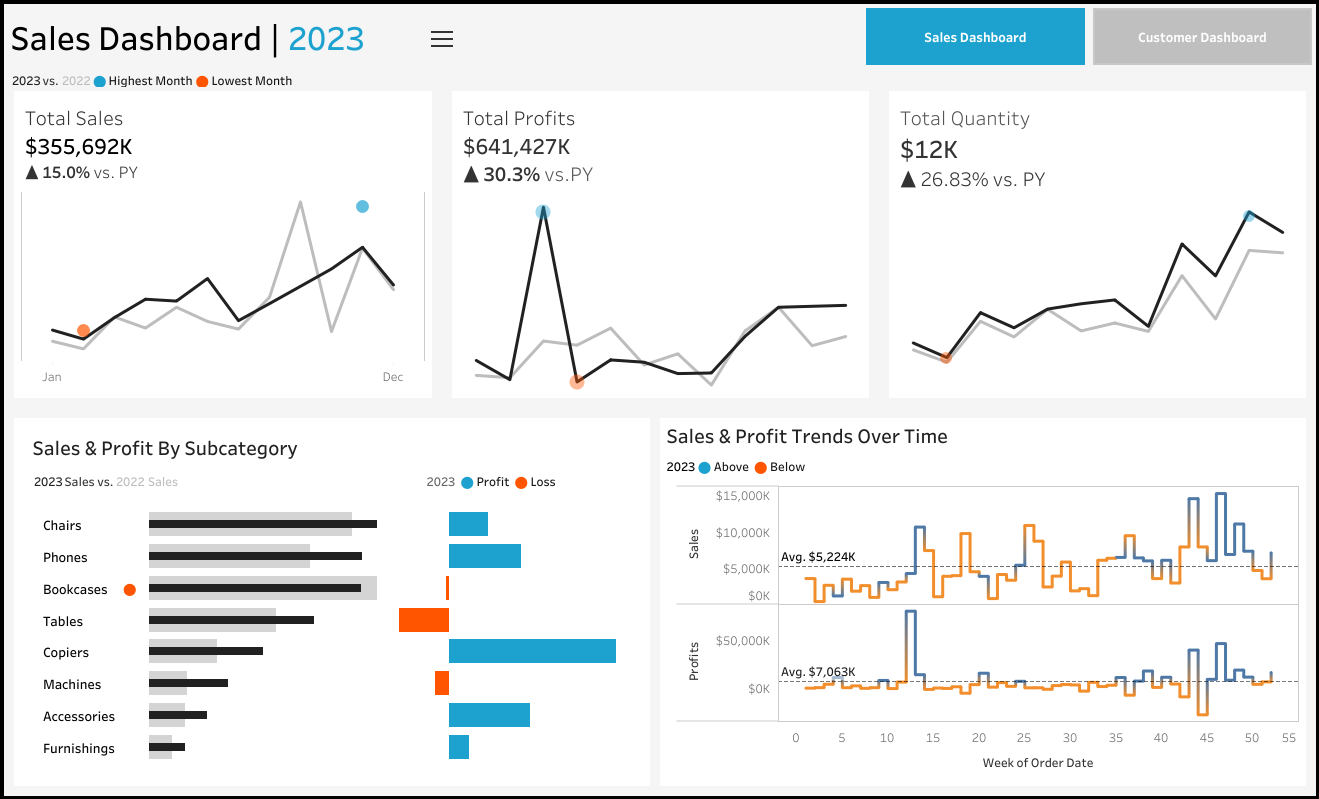

The dashboard page shown, as its layout file describes it:
{"tool":"tableau","page":{"name":"Sales Dashboard","canvas":[1000,1000],"units":"permille","ordinal":0},"visuals":[{"type":"text","box":[3.3,5,715,81.2]},{"type":"dashboard-object","box":[718.3,5,139.2,81.2]},{"type":"dashboard-object","box":[857.5,5,139.2,81.2]},{"type":"text","box":[839.1,15,147.6,36.2]},{"type":"dashboard-object","box":[325,33.8,20,30]},{"type":"parameter","param":"[Parameters].[Parameter 1]","box":[839.1,51.2,147.6,50]},{"type":"worksheet","title":"Legends KPI","mark":"Automatic","box":[3.3,86.2,993.3,27.5]},{"type":"blank","box":[839.1,101.2,147.6,68.8]},{"type":"worksheet","title":"KPI sales","mark":"Automatic","rows":["Calculation_198439879972892683"],"cols":["Order Date"],"box":[3.3,113.8,331.7,396.2]},{"type":"worksheet","title":"KPI Profits","mark":"Line","rows":["Calculation_198439880279834652"],"cols":["Order Date"],"box":[335,113.8,330.8,396.2]},{"type":"worksheet","title":"KPI Quantity","mark":"Automatic","rows":["Calculation_198439880296996899"],"cols":["Order Date"],"box":[665.8,113.8,330.8,396.2]},{"type":"text","box":[839.1,170,147.6,36.2]},{"type":"filter","title":"KPI sales","param":"[federated.0lf4a6a1a8cbe71ayejc904q4no6].[none:Category:nk]","box":[839.1,206.2,147.6,65]},{"type":"filter","title":"KPI sales","param":"[federated.0lf4a6a1a8cbe71ayejc904q4no6].[none:Sub-Category:nk]","box":[839.1,271.2,147.6,40]},{"type":"blank","box":[839.1,311.2,147.6,78.8]},{"type":"text","box":[839.1,390,147.6,36.2]},{"type":"filter","title":"KPI sales","param":"[federated.0lf4a6a1a8cbe71ayejc904q4no6].[none:Region:nk]","box":[839.1,426.2,147.6,65]},{"type":"filter","title":"KPI sales","param":"[federated.0lf4a6a1a8cbe71ayejc904q4no6].[none:State:nk]","box":[839.1,491.2,147.6,65]},{"type":"text","box":[500,522.5,488.3,42.5]},{"type":"text","box":[21.7,537.5,460,42.5]},{"type":"filter","title":"KPI sales","param":"[federated.0lf4a6a1a8cbe71ayejc904q4no6].[none:City:nk]","box":[839.1,556.2,147.6,65]},{"type":"text","box":[500,565,488.3,31.2]},{"type":"worksheet","title":"Legends Subcategory ","mark":"Automatic","box":[21.7,580,328.3,40]},{"type":"text","box":[350,580,131.7,40]},{"type":"worksheet","title":"Weekly Trends","mark":"Automatic","rows":["Calculation_198439879966453767","Calculation_198439880253661205"],"cols":["Order Date"],"box":[500,596.2,488.3,386.2]},{"type":"worksheet","title":"Subcategory Comparison","mark":"Bar","rows":["Sub-Category","Calculation_198439880306819112"],"cols":["CY Sales (copy)_198439879966920712","Calculation_198439879966453767","Calculation_198439880253661205"],"box":[21.7,620,460,347.4]}]}

Visuals, with their boxes on the dashboard's canvas, which has no fixed pixel size, in thousandths of its width and height (x1, y1, x2, y2). These are canvas units, not pixel positions in the 1319x799 screenshot, which may show the page scaled, cropped or inside an application window:
text: l=3, t=5, r=718, b=86
dashboard-object: l=718, t=5, r=858, b=86
dashboard-object: l=858, t=5, r=997, b=86
text: l=839, t=15, r=987, b=51
dashboard-object: l=325, t=34, r=345, b=64
parameter: l=839, t=51, r=987, b=101
"Legends KPI" worksheet: l=3, t=86, r=997, b=114
blank: l=839, t=101, r=987, b=170
"KPI sales" worksheet: l=3, t=114, r=335, b=510
"KPI Profits" worksheet (Line marks): l=335, t=114, r=666, b=510
"KPI Quantity" worksheet: l=666, t=114, r=997, b=510
text: l=839, t=170, r=987, b=206
"KPI sales" filter: l=839, t=206, r=987, b=271
"KPI sales" filter: l=839, t=271, r=987, b=311
blank: l=839, t=311, r=987, b=390
text: l=839, t=390, r=987, b=426
"KPI sales" filter: l=839, t=426, r=987, b=491
"KPI sales" filter: l=839, t=491, r=987, b=556
text: l=500, t=522, r=988, b=565
text: l=22, t=538, r=482, b=580
"KPI sales" filter: l=839, t=556, r=987, b=621
text: l=500, t=565, r=988, b=596
"Legends Subcategory " worksheet: l=22, t=580, r=350, b=620
text: l=350, t=580, r=482, b=620
"Weekly Trends" worksheet: l=500, t=596, r=988, b=982
"Subcategory Comparison" worksheet (Bar marks): l=22, t=620, r=482, b=967
